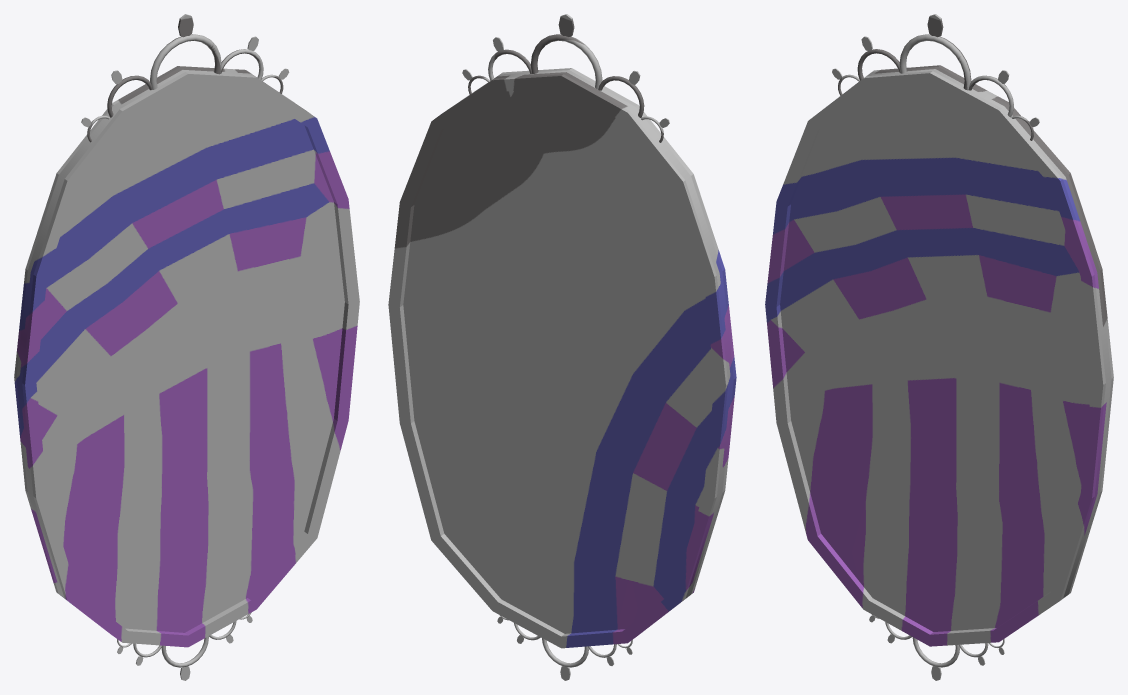
Rendered from Espejo.FBX.
3 views of the same model, side by side, from view 1: azimuth 30°, elevation 25°; view 2: azimuth 150°, elevation 25°; view 3: azimuth 330°, elevation 25° (orthographic).
Parts seen in each view (by area): view 1: Espejo; view 2: Espejo; view 3: Espejo.
Part boxes in pixels (<box>): Espejo: <box>14,14,359,680</box>; Espejo: <box>388,14,736,680</box>; Espejo: <box>765,14,1113,680</box>.
Size of the model in its own units: 108 by 204 by 6.9.
